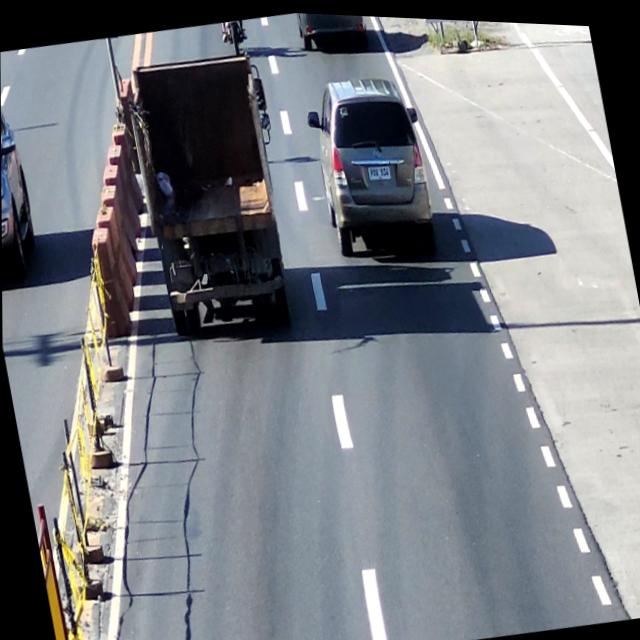Car: (306, 65, 443, 268), (0, 81, 41, 285), (292, 10, 372, 56)
License-Plate: (366, 156, 394, 184)
Motorcycle: (221, 17, 247, 54)
Truck: (120, 41, 301, 342)
